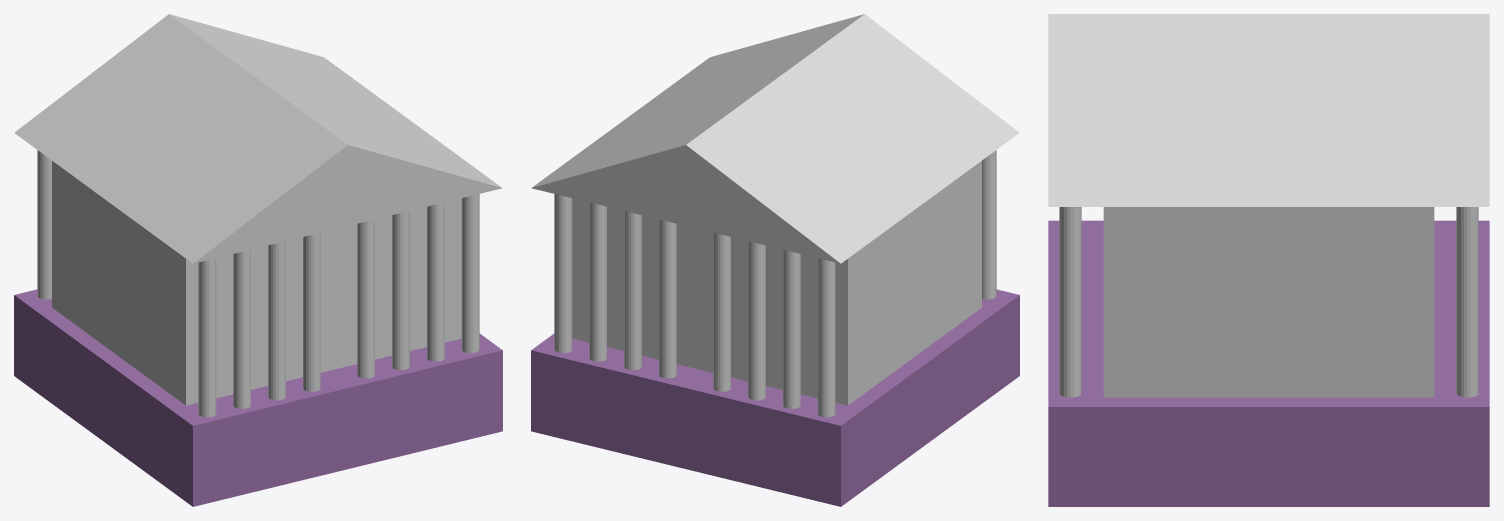
File: money_tower.glb
3 renders of one model, left to right at view 1: azimuth 30°, elevation 25°; view 2: azimuth 150°, elevation 25°; view 3: azimuth 270°, elevation 25°, orthographic. The views are drawn at different scales.
Visible parts, largest first — view 1: Mesh_Mesh_head_geo.001_lambert2SG.001; view 2: Mesh_Mesh_head_geo.001_lambert2SG.001; view 3: Mesh_Mesh_head_geo.001_lambert2SG.001.
Part boxes in pixels (box(x1,y1,x2,y2)): Mesh_Mesh_head_geo.001_lambert2SG.001: box(14, 14, 502, 506); Mesh_Mesh_head_geo.001_lambert2SG.001: box(531, 14, 1019, 506); Mesh_Mesh_head_geo.001_lambert2SG.001: box(1048, 14, 1489, 506).
Bounding box in the file's own units: 40 × 40 × 40.
